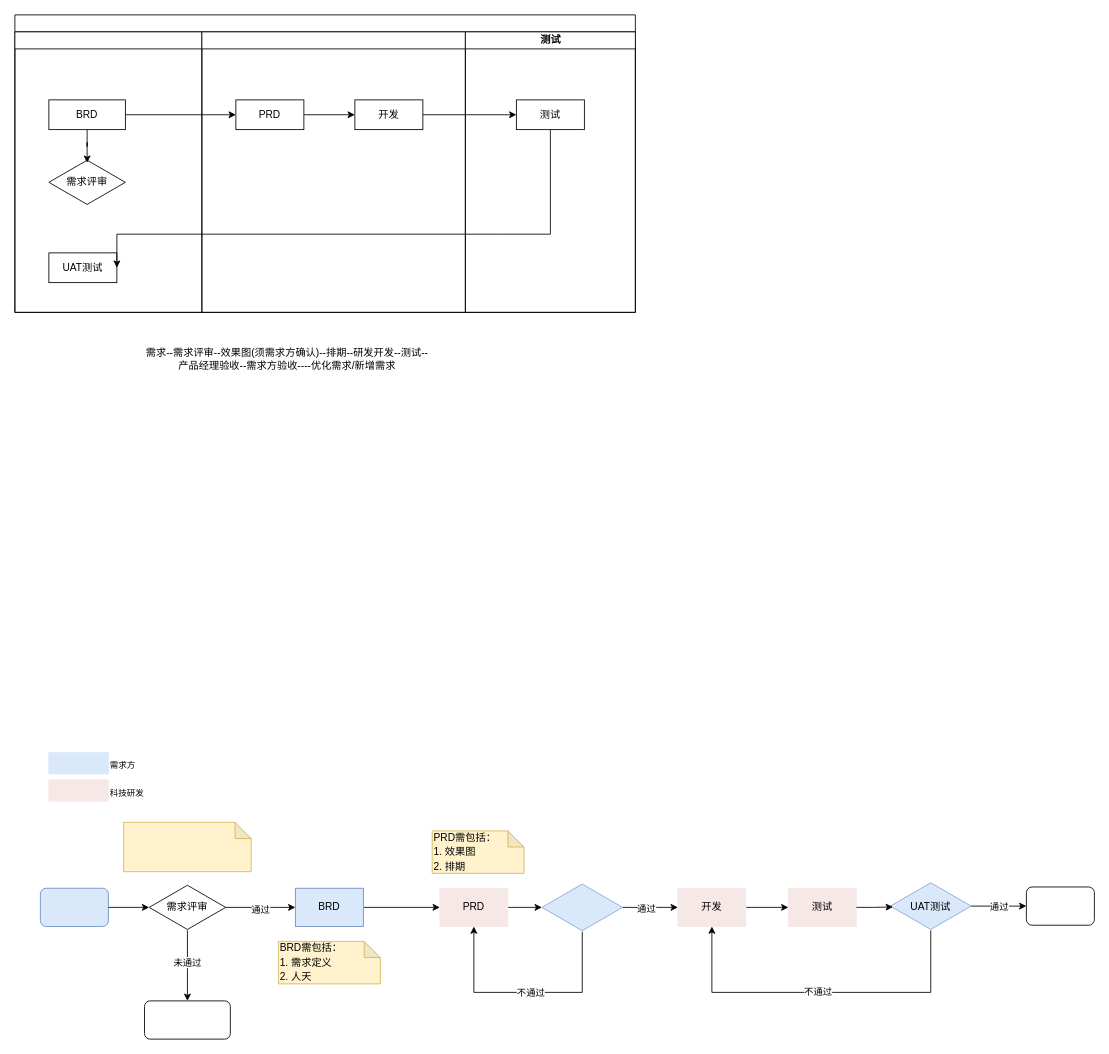
Some shapes in this 1109 by 1054 pixel diagram are drawn without their labels. The shapes that lost their labels are listed below. From the top down, each one's box as (x1, y1, x2, y2) in pixels, then its label:
(14, 31, 202, 312): 业务方
(14, 14, 635, 312): 研发需求流程
(201, 31, 465, 312): 研发
(123, 822, 251, 872): 需求方组织 评审参与方： 需求方leader、科技研发
(40, 887, 108, 926): 业务需求
(541, 882, 623, 932): 需求方确认
(1026, 886, 1094, 925): 结束
(144, 1000, 230, 1039): 结束 （原因代替方案）
